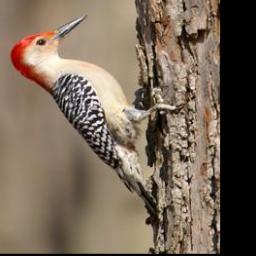Woodpecker: (6, 13, 187, 216)
